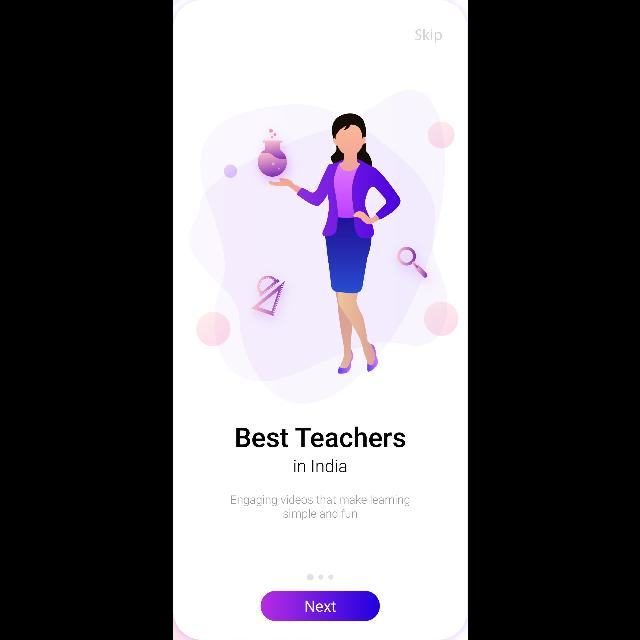image: (188, 90, 458, 404)
pageindicator: (307, 574, 333, 580)
text: (231, 496, 409, 520), (236, 427, 404, 448), (294, 460, 346, 472), (414, 29, 442, 43)
textbutton: (260, 591, 380, 621)
